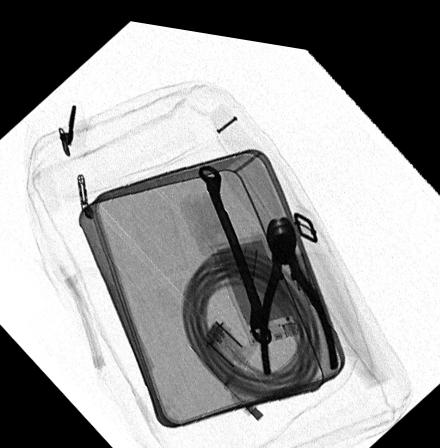Pliers: (258, 207, 338, 367)
Powerbank: (208, 224, 309, 337)
Wrench: (197, 156, 271, 334)
